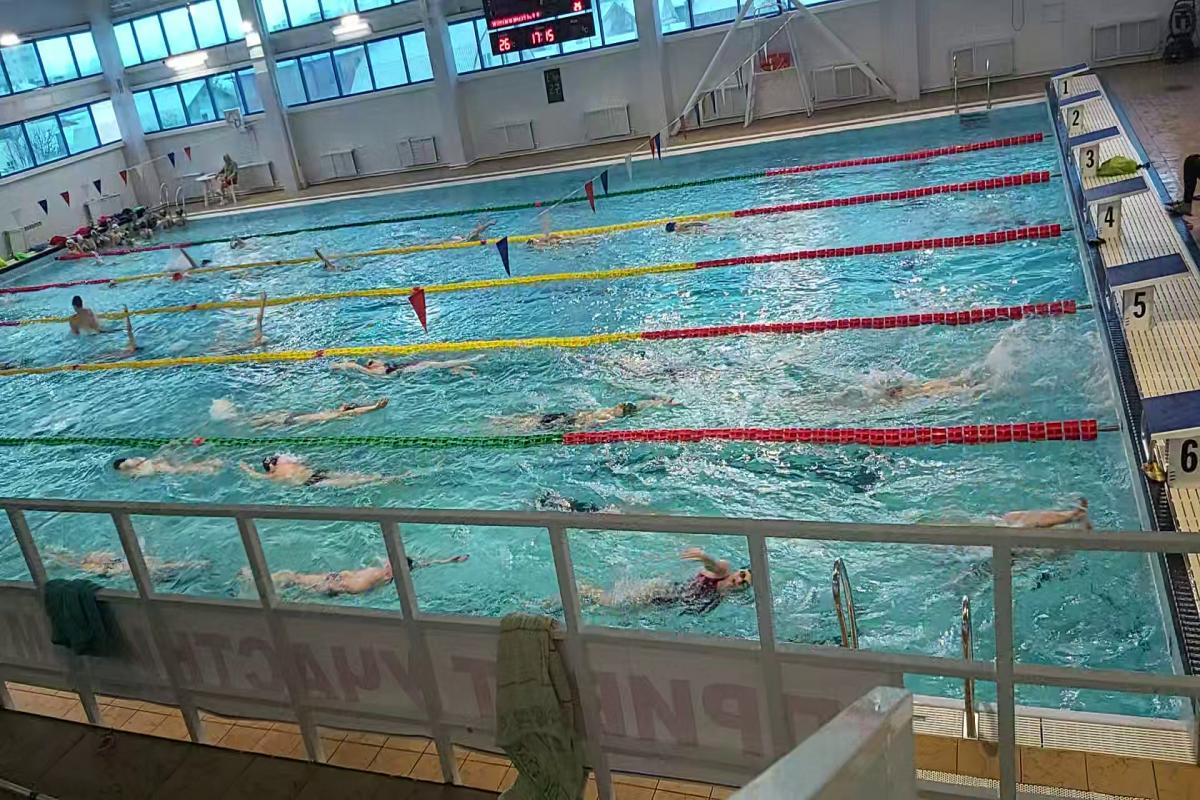swimmer: (578, 547, 751, 628), (42, 531, 209, 584), (248, 546, 393, 604), (803, 364, 972, 409), (243, 448, 400, 492), (508, 394, 672, 433), (254, 388, 379, 436), (333, 354, 475, 382), (106, 448, 225, 481), (60, 290, 112, 343), (230, 296, 284, 347), (99, 321, 150, 361), (664, 212, 720, 238), (306, 245, 350, 278), (449, 223, 510, 236)
